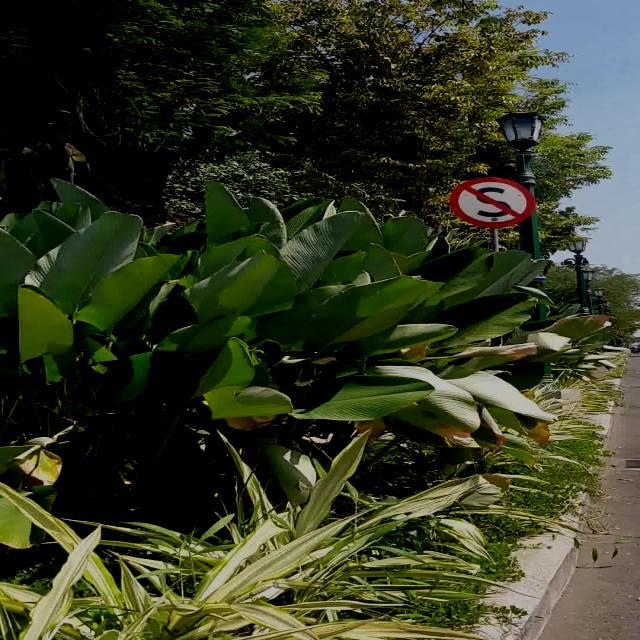Dilarang Berhenti: (450, 177, 535, 227)
